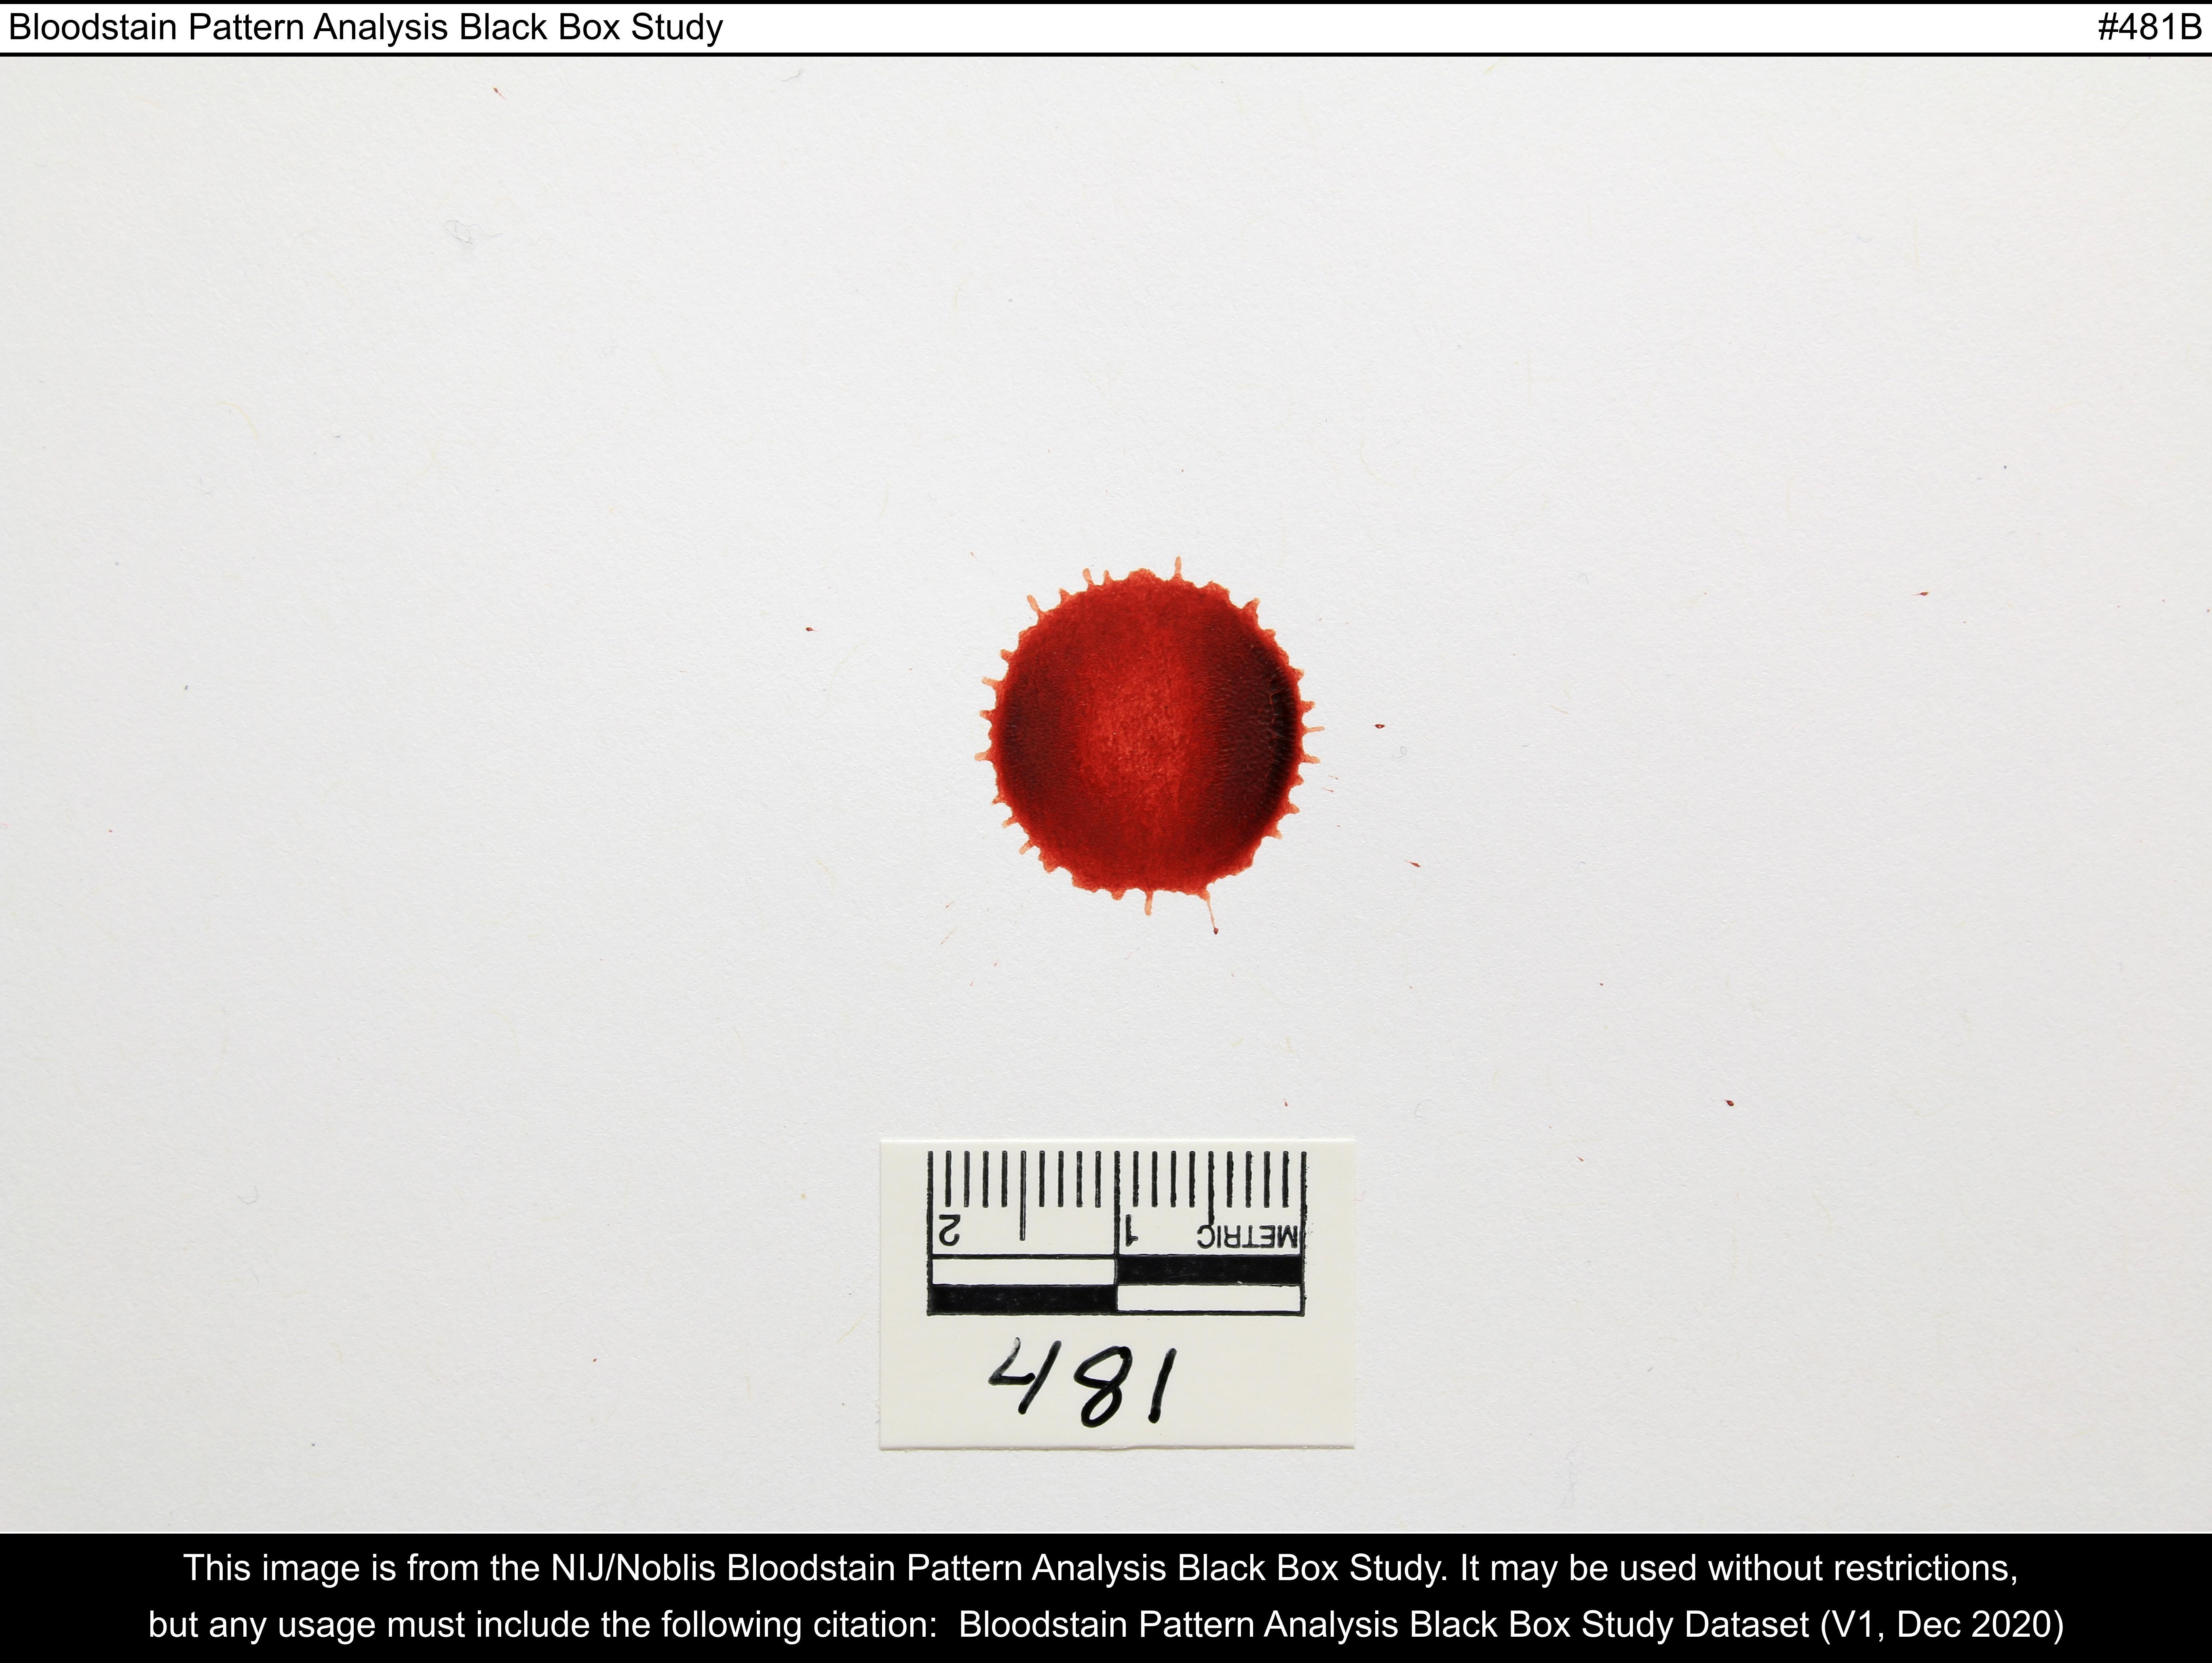Passive: (876, 517, 1484, 990)
